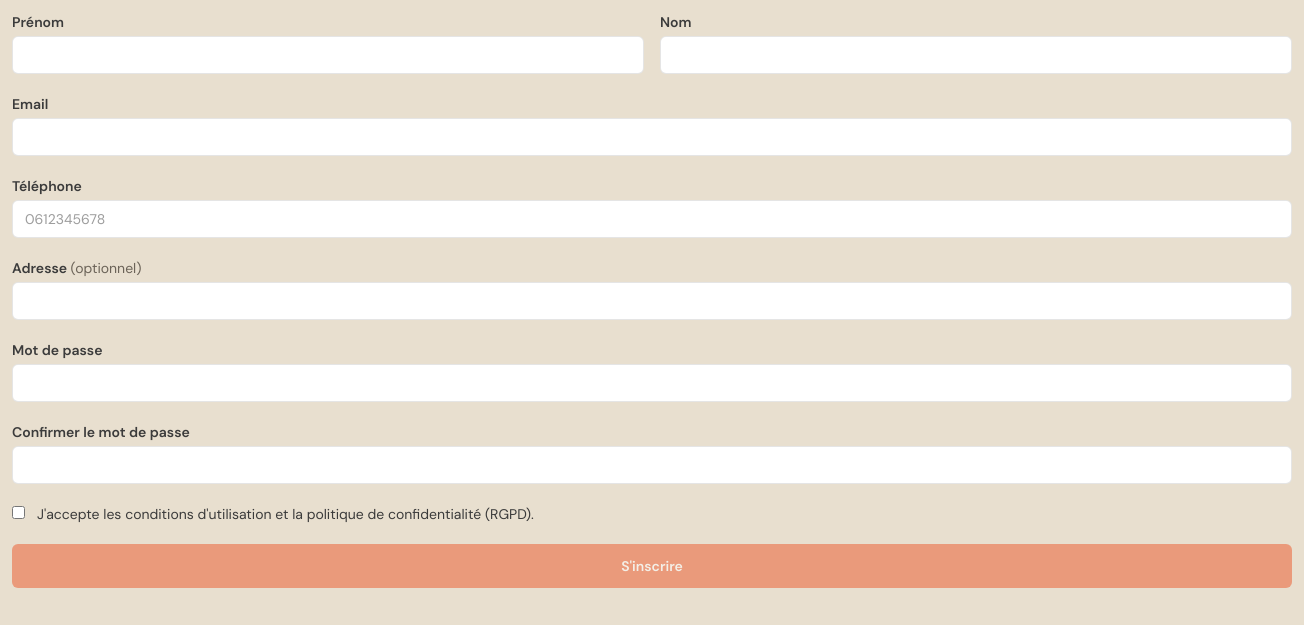
Test case: RegisterForm › affiche une erreur si le mot de passe est trop faible
Type "faible" into the password field labelled "Mot de passe".
click(652, 383); type("faible")  # box [12, 364, 1292, 402]
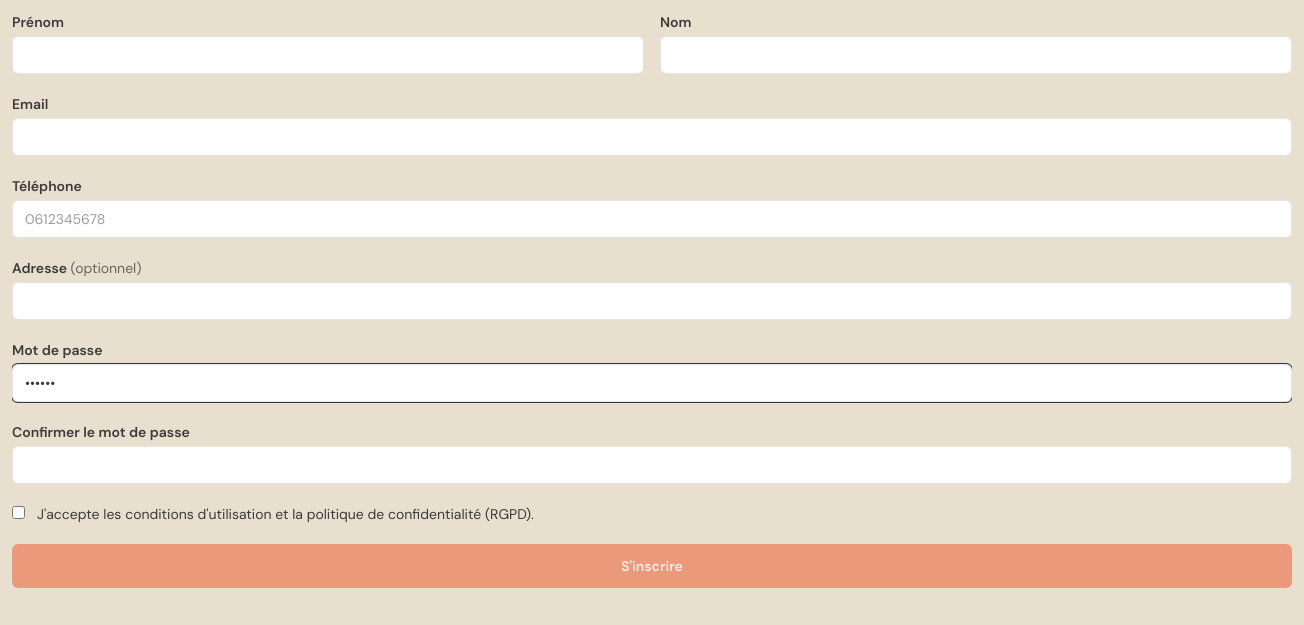
Press Tab
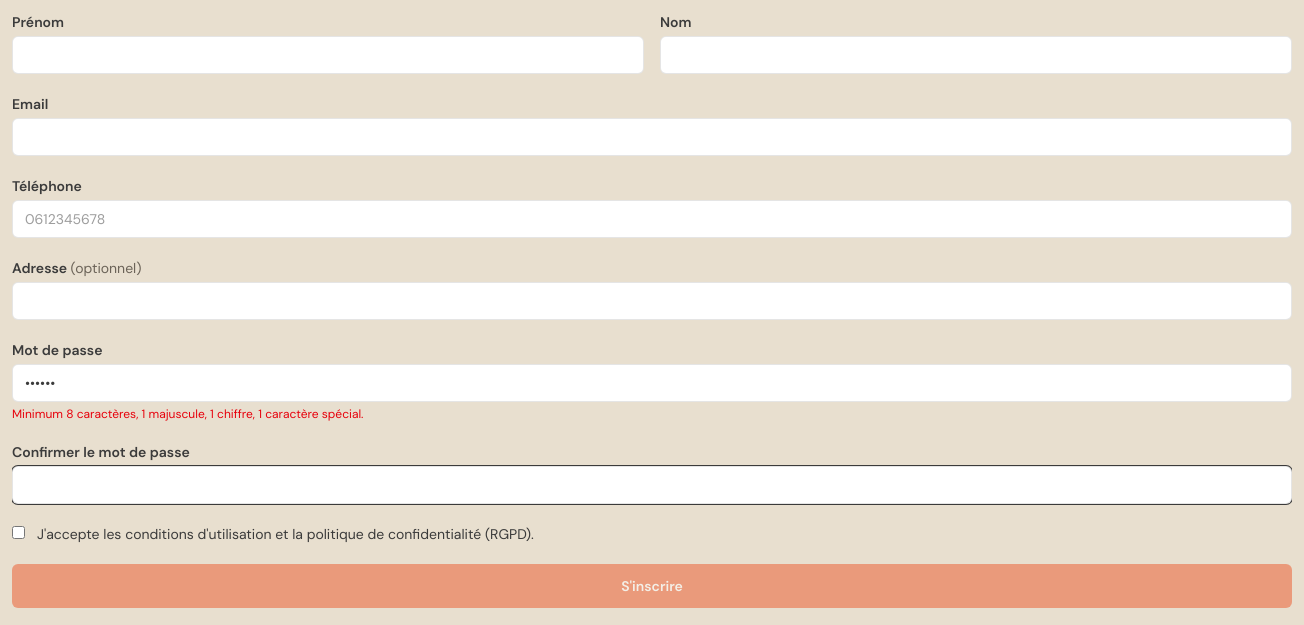
Now the text "Minimum 8 caractères" is shown, box [12, 406, 364, 422]
